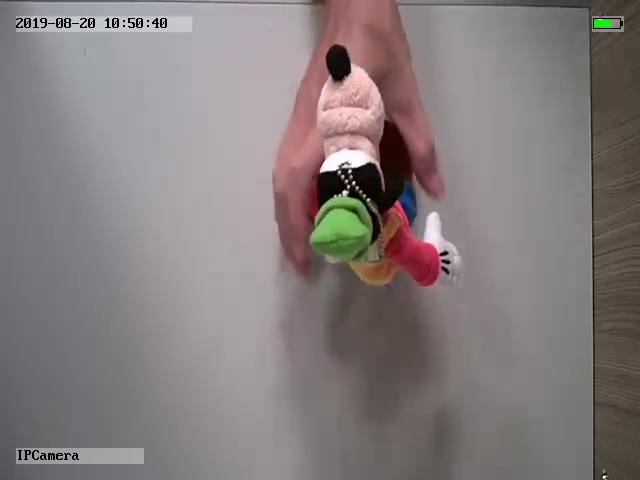goofy: (306, 44, 463, 289)
